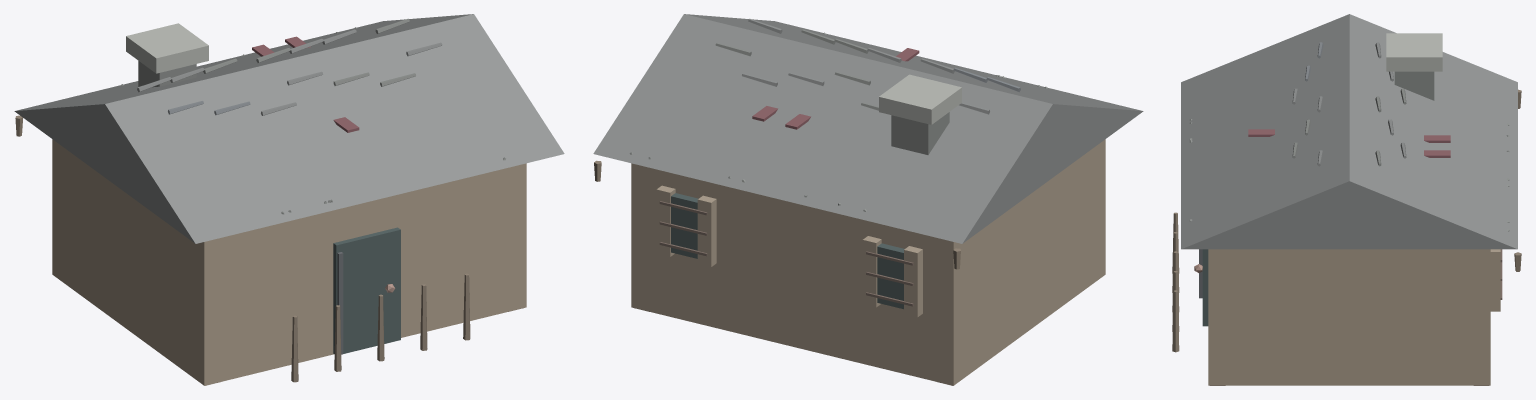
File: shuttered_farmhouse.glb
The picture shows the model from 3 angles, left to right: view 1: azimuth 30°, elevation 25°; view 2: azimuth 150°, elevation 25°; view 3: azimuth 270°, elevation 25°; orthographic projection. The views are drawn at different scales.
Parts seen in each view (by area): view 1: shuttered_farmhouse_material_05, shuttered_farmhouse_material_00, shuttered_farmhouse_material_02, shuttered_farmhouse_material_10, shuttered_farmhouse_material_09, shuttered_farmhouse_material_06, shuttered_farmhouse_material_08, shuttered_farmhouse_material_03; view 2: shuttered_farmhouse_material_05, shuttered_farmhouse_material_00, shuttered_farmhouse_material_10, shuttered_farmhouse_material_02, shuttered_farmhouse_material_06, shuttered_farmhouse_material_01, shuttered_farmhouse_material_08; view 3: shuttered_farmhouse_material_05, shuttered_farmhouse_material_00, shuttered_farmhouse_material_10, shuttered_farmhouse_material_06, shuttered_farmhouse_material_09, shuttered_farmhouse_material_08, shuttered_farmhouse_material_02.
Part boxes in pixels (x1=…): shuttered_farmhouse_material_05: x1=14, y1=14, x2=564, y2=243; shuttered_farmhouse_material_00: x1=52, y1=139, x2=526, y2=385; shuttered_farmhouse_material_02: x1=333, y1=227, x2=400, y2=353; shuttered_farmhouse_material_10: x1=126, y1=23, x2=208, y2=73; shuttered_farmhouse_material_09: x1=15, y1=115, x2=470, y2=382; shuttered_farmhouse_material_06: x1=120, y1=18, x2=505, y2=214; shuttered_farmhouse_material_08: x1=252, y1=36, x2=359, y2=132; shuttered_farmhouse_material_03: x1=337, y1=252, x2=343, y2=354; shuttered_farmhouse_material_05: x1=593, y1=14, x2=1143, y2=243; shuttered_farmhouse_material_00: x1=631, y1=139, x2=1105, y2=385; shuttered_farmhouse_material_10: x1=879, y1=74, x2=961, y2=124; shuttered_farmhouse_material_02: x1=671, y1=193, x2=904, y2=309; shuttered_farmhouse_material_06: x1=629, y1=29, x2=1047, y2=211; shuttered_farmhouse_material_01: x1=634, y1=201, x2=940, y2=382; shuttered_farmhouse_material_08: x1=752, y1=48, x2=919, y2=129; shuttered_farmhouse_material_05: x1=1181, y1=14, x2=1517, y2=249; shuttered_farmhouse_material_00: x1=1208, y1=249, x2=1500, y2=385; shuttered_farmhouse_material_10: x1=1386, y1=33, x2=1442, y2=71; shuttered_farmhouse_material_06: x1=1189, y1=71, x2=1509, y2=231; shuttered_farmhouse_material_09: x1=1172, y1=89, x2=1521, y2=352; shuttered_farmhouse_material_08: x1=1248, y1=129, x2=1450, y2=157; shuttered_farmhouse_material_02: x1=1202, y1=249, x2=1208, y2=326.
Size of the model in its own units: 3.78 by 2.41 by 3.34.
